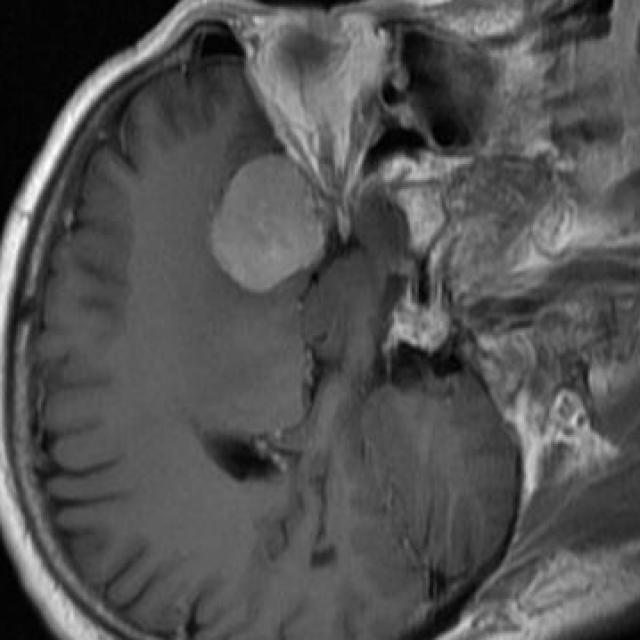meningioma: (209, 155, 324, 296)
